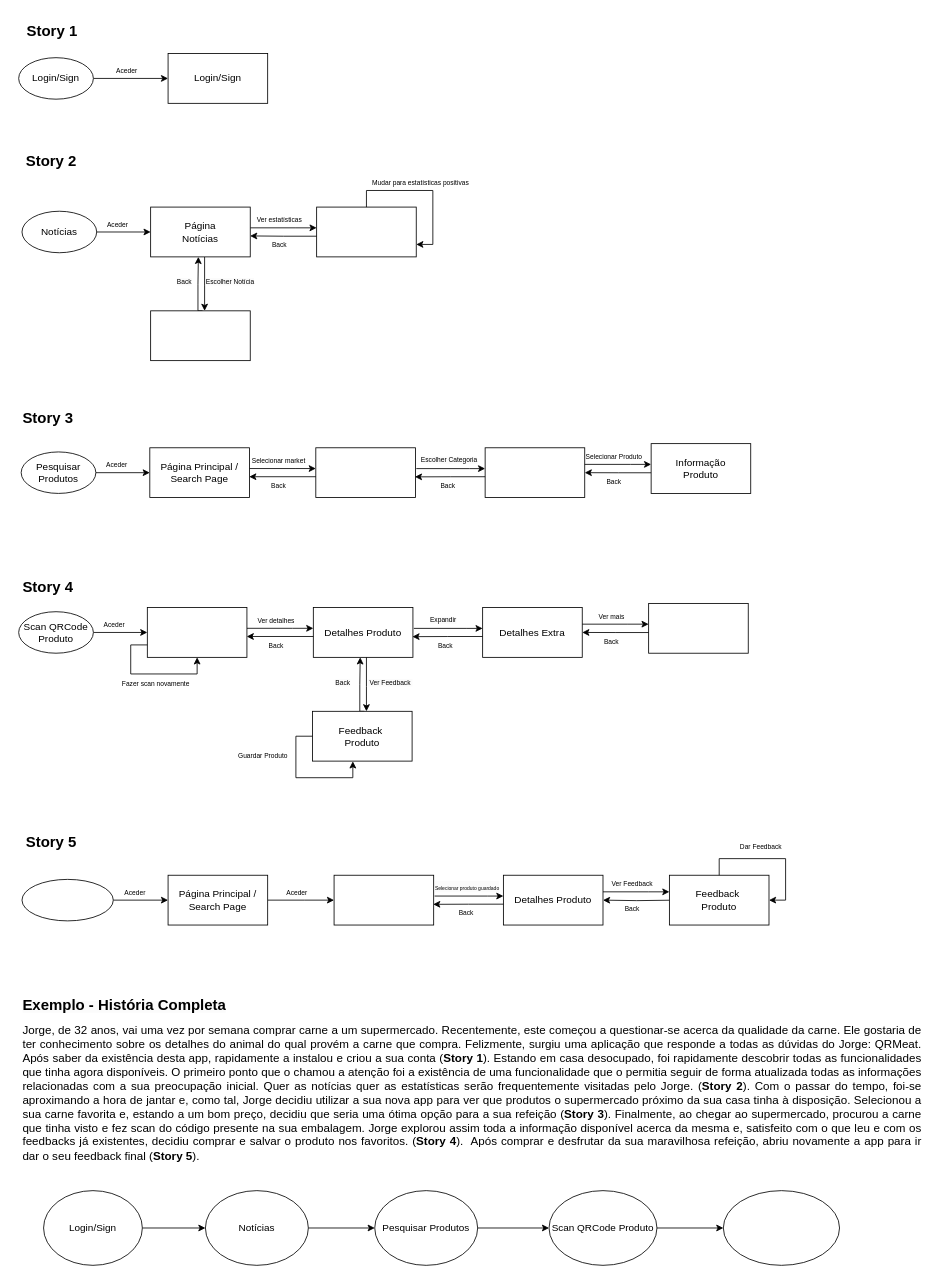
This 935x1280 diagram has some shape labels left out. The box of each missing label's shape, as (x1, y1, x2, y2) in pixels:
Categorias Supermercado: (315, 447, 415, 498)
Leitor QRCode: (146, 607, 247, 657)
Notícia Selecionada Completa: (150, 310, 250, 361)
Produtos Categoria Selecionada: (484, 447, 585, 498)
Produtos Salvos: (333, 874, 434, 925)
Produtos Salvos/ Feedback: (723, 1190, 840, 1265)
Produtos Salvos/Feedback: (21, 879, 113, 921)
Página Estatísticas: (316, 206, 416, 257)
Tabela Extra Informativa: (648, 603, 748, 653)
